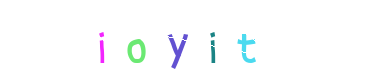I: (62, 0, 142, 80), (147, 0, 227, 80)
O: (96, 0, 176, 80)
T: (197, 0, 277, 80)
Y: (147, 0, 227, 80)
